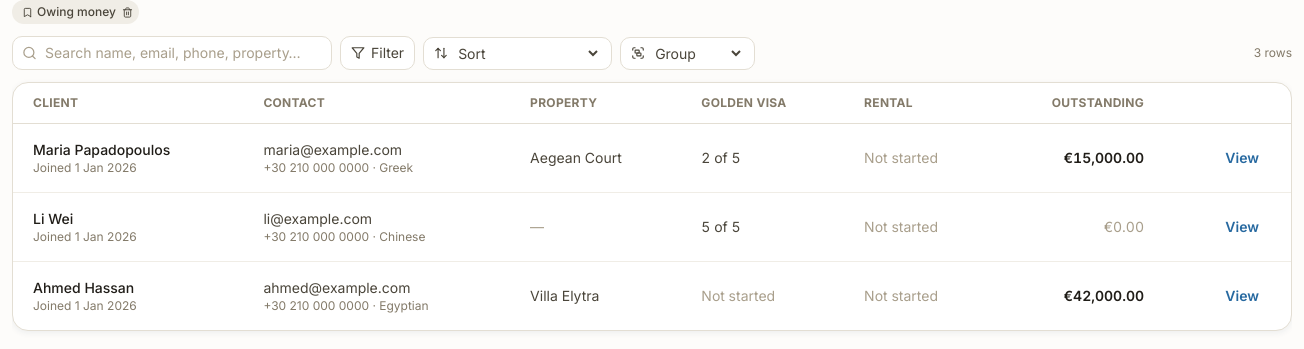
saved views › applies a saved view when its chip is clicked
Click the button with aria-label "Apply saved view: Owing money": x=69, y=12 x1=22 y1=4 x2=116 y2=20
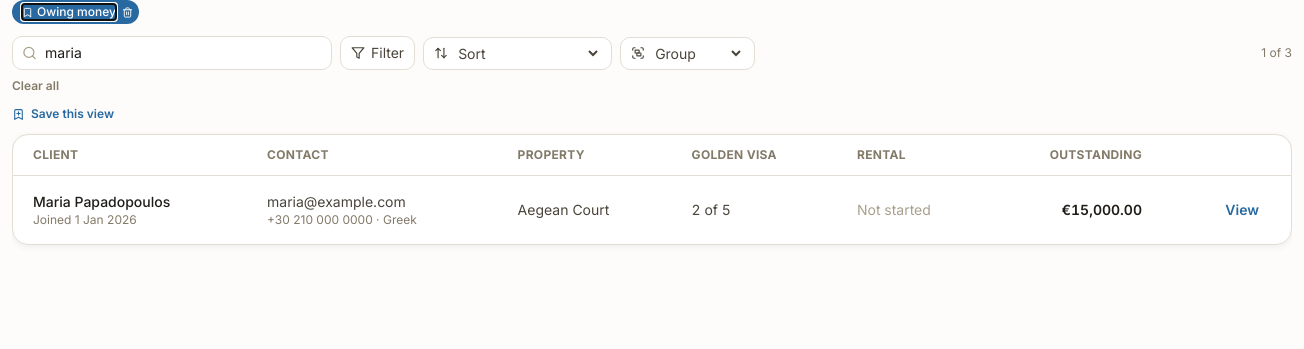
Expected: the text "Maria Papadopoulos" is shown, x1=33 y1=193 x2=170 y2=210
Now the text "Li Wei" is gone
